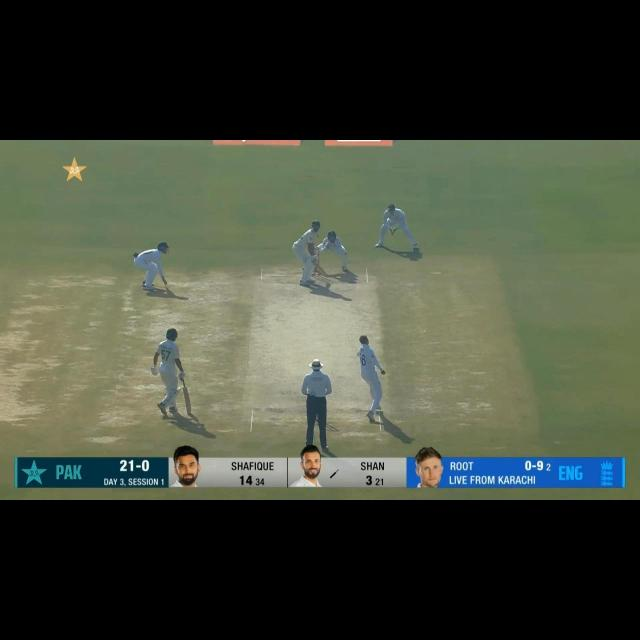bat: (183, 386, 193, 413), (314, 263, 327, 277)
toe: (185, 405, 192, 413), (322, 270, 327, 276)
